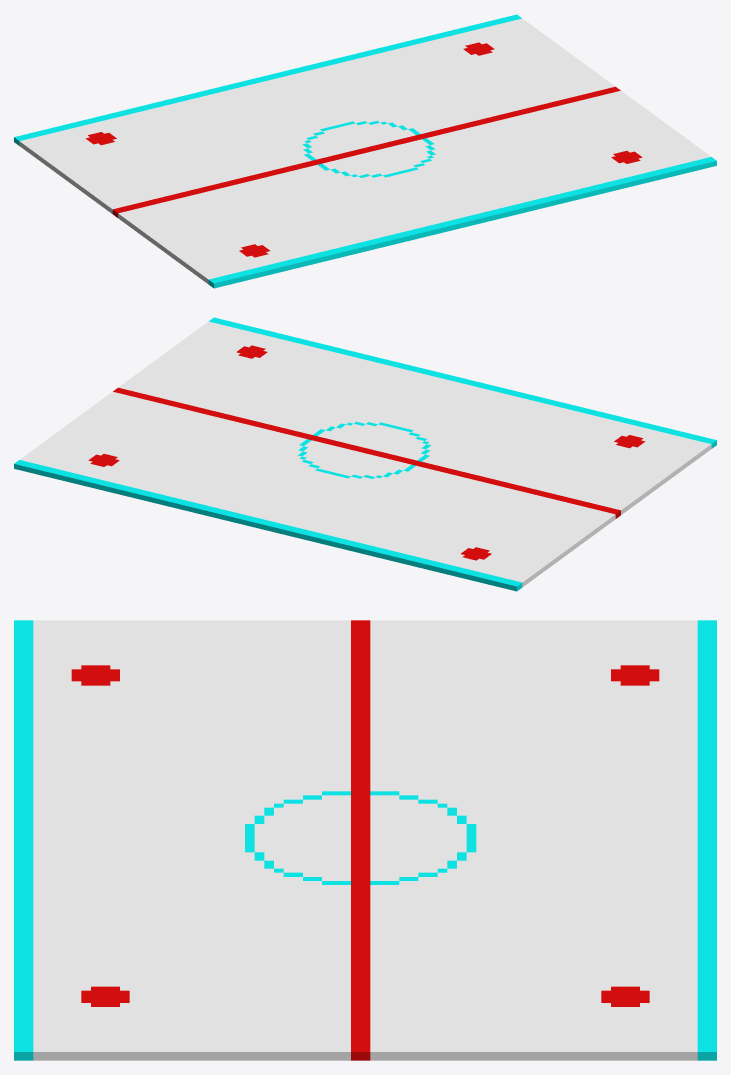
The model's file is HockyRinkMiddle.obj.
The picture shows the model from 3 angles, top to bottom: view 1: azimuth 30°, elevation 25°; view 2: azimuth 150°, elevation 25°; view 3: azimuth 270°, elevation 25°; orthographic projection. The views are drawn at different scales.
Bounding box in the file's own units: 106 × 1 × 73.
1 material, 1 textured.
